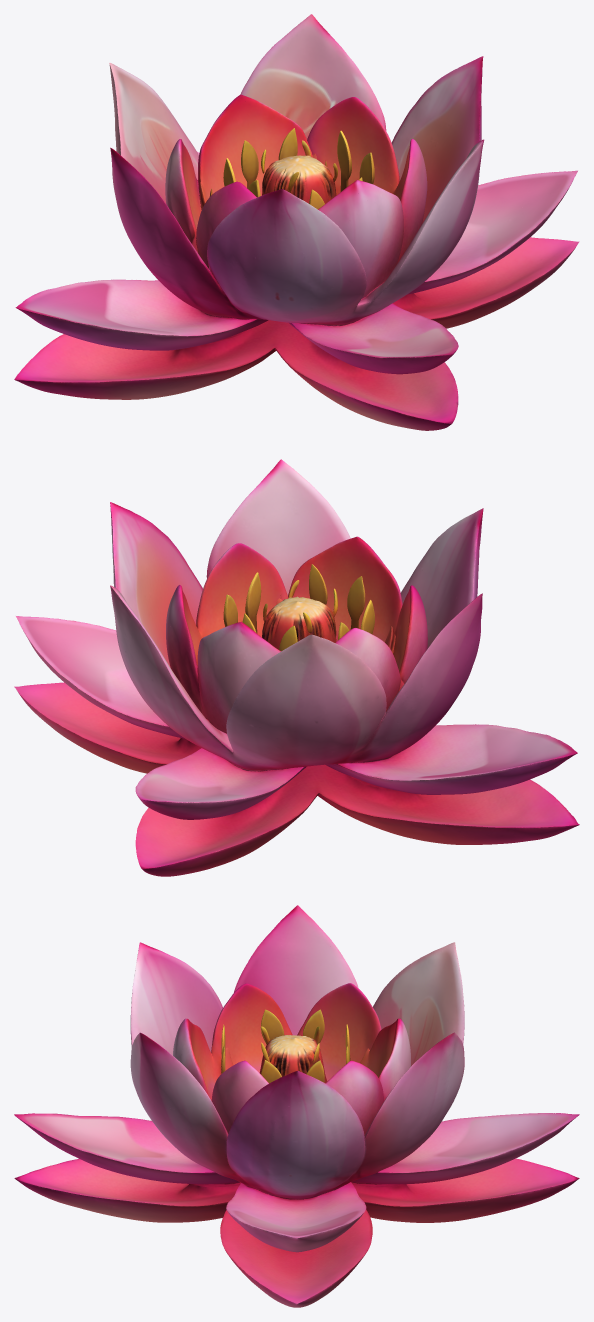
File: lotus.glb
3 views of the same model, one above another, from view 1: azimuth 30°, elevation 25°; view 2: azimuth 150°, elevation 25°; view 3: azimuth 270°, elevation 25° (orthographic). The views are drawn at different scales.
Parts seen in each view (by area): view 1: Object_4, Object_7, Object_5, Object_3, Object_6, Object_8; view 2: Object_5, Object_4, Object_7, Object_3, Object_6, Object_8; view 3: Object_4, Object_5, Object_3, Object_7, Object_6, Object_8.
Part boxes in pixels (<box>): Object_4: <box>34,69,569,430</box>; Object_7: <box>110,14,579,430</box>; Object_5: <box>15,56,577,343</box>; Object_3: <box>14,242,553,429</box>; Object_6: <box>165,97,401,224</box>; Object_8: <box>109,14,481,268</box>; Object_5: <box>16,459,577,819</box>; Object_4: <box>20,526,562,876</box>; Object_7: <box>14,460,482,814</box>; Object_3: <box>37,695,579,876</box>; Object_6: <box>138,509,481,819</box>; Object_8: <box>110,463,474,736</box>; Object_4: <box>14,1015,579,1295</box>; Object_5: <box>130,905,506,1251</box>; Object_3: <box>14,1116,578,1296</box>; Object_7: <box>15,911,579,1307</box>; Object_6: <box>140,943,560,1161</box>; Object_8: <box>138,936,464,1174</box>.
Size of the model in its own units: 1.81 by 0.7798 by 1.72.
Materials: 1 (1 with a texture image).
